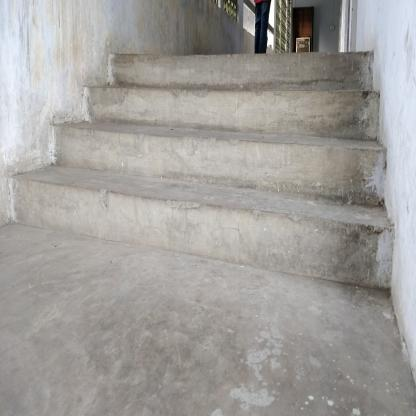stairs: (105, 53, 376, 238)
